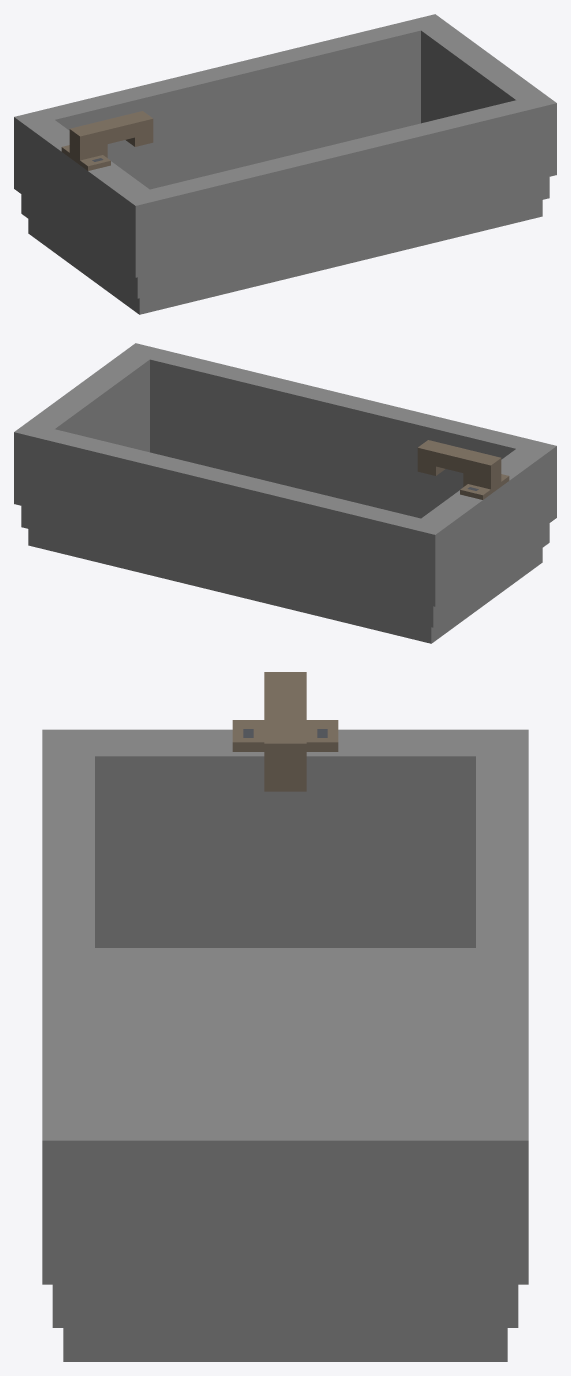
File: bath.obj
3 renders of one model, top to bottom at view 1: azimuth 30°, elevation 25°; view 2: azimuth 150°, elevation 25°; view 3: azimuth 270°, elevation 25°, orthographic. The views are drawn at different scales.
Bounding box in the file's own units: 92 × 30 × 46.
1 material, 1 textured.
